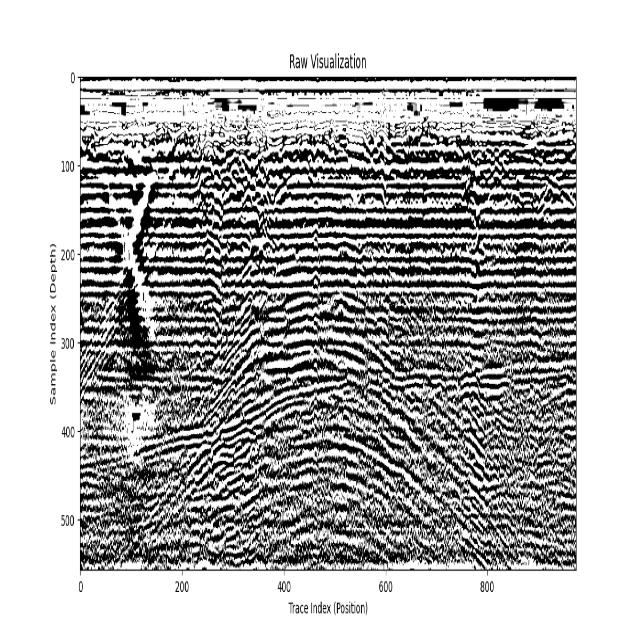anomaly: (140, 296, 518, 560), (92, 157, 162, 400)
